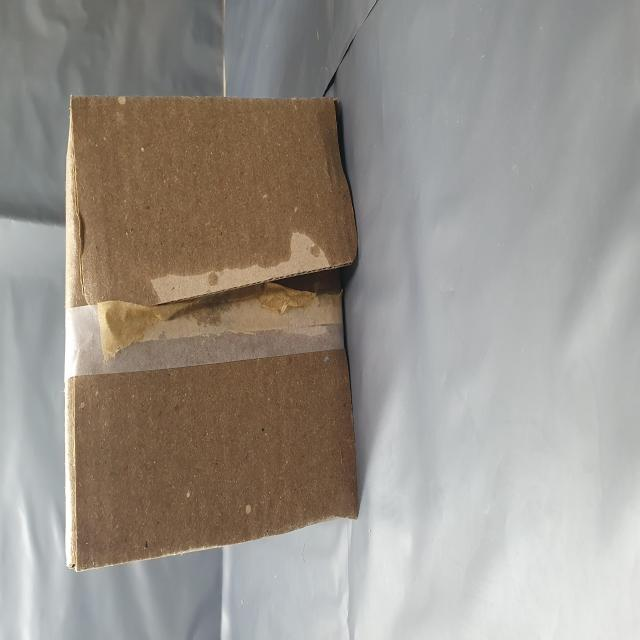wet: (47, 107, 302, 623)
